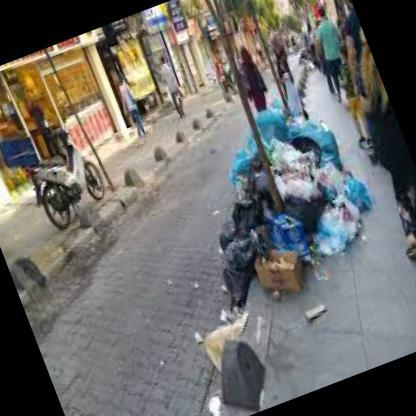Garbage: (259, 90, 399, 304), (185, 299, 268, 374), (196, 227, 272, 307), (270, 144, 332, 223), (263, 196, 320, 278), (298, 196, 368, 262), (291, 117, 344, 177), (215, 138, 266, 192), (220, 195, 268, 243), (250, 98, 292, 150), (338, 170, 382, 217), (195, 383, 234, 415), (300, 288, 334, 320)
